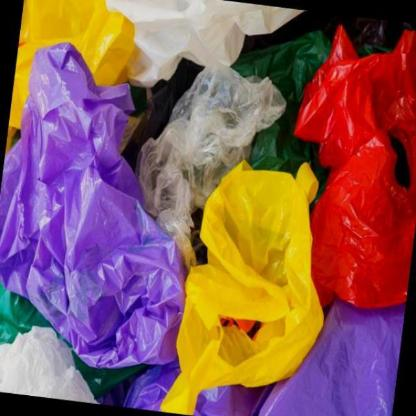Plastic Bag: (0, 42, 182, 364), (156, 160, 324, 414), (298, 20, 416, 310), (138, 54, 288, 250)
